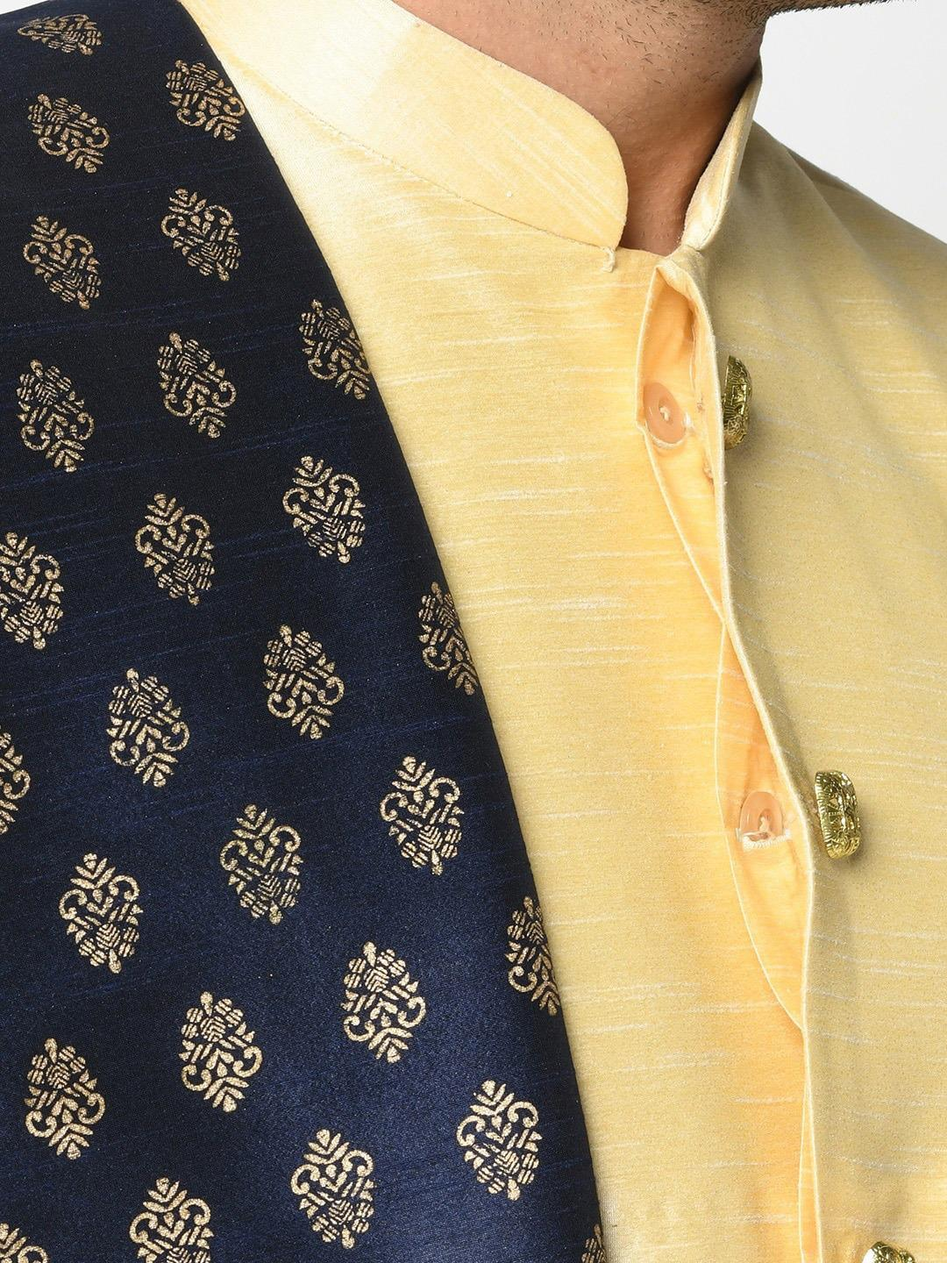Plain Sherwani: (4, 1, 945, 1257)
